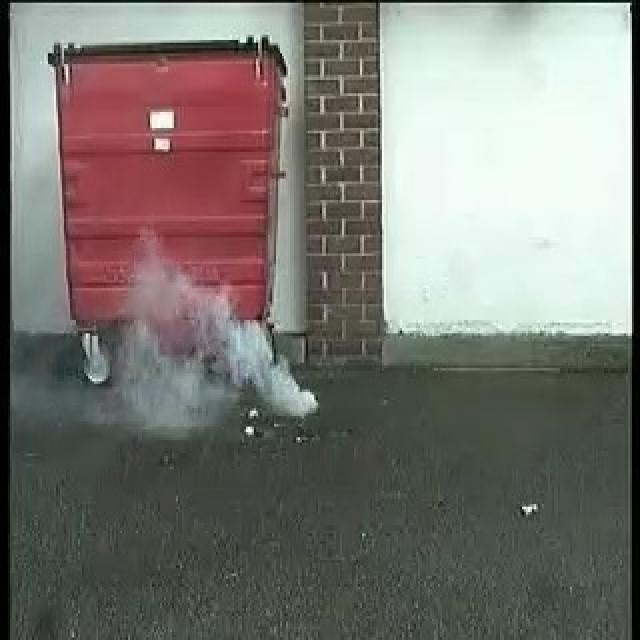smoke: (131, 252, 320, 419)
